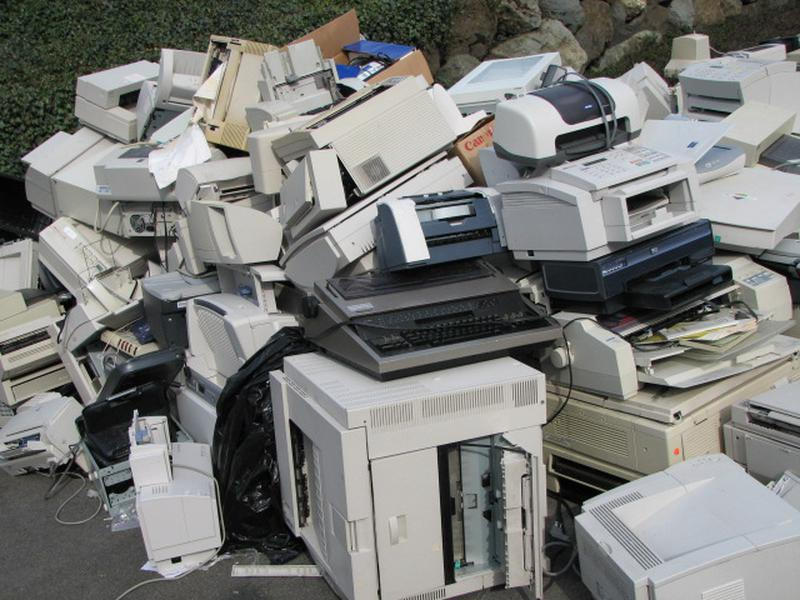printer: (265, 352, 563, 600), (569, 443, 800, 600), (495, 147, 708, 266), (365, 180, 508, 285), (495, 69, 650, 161)
